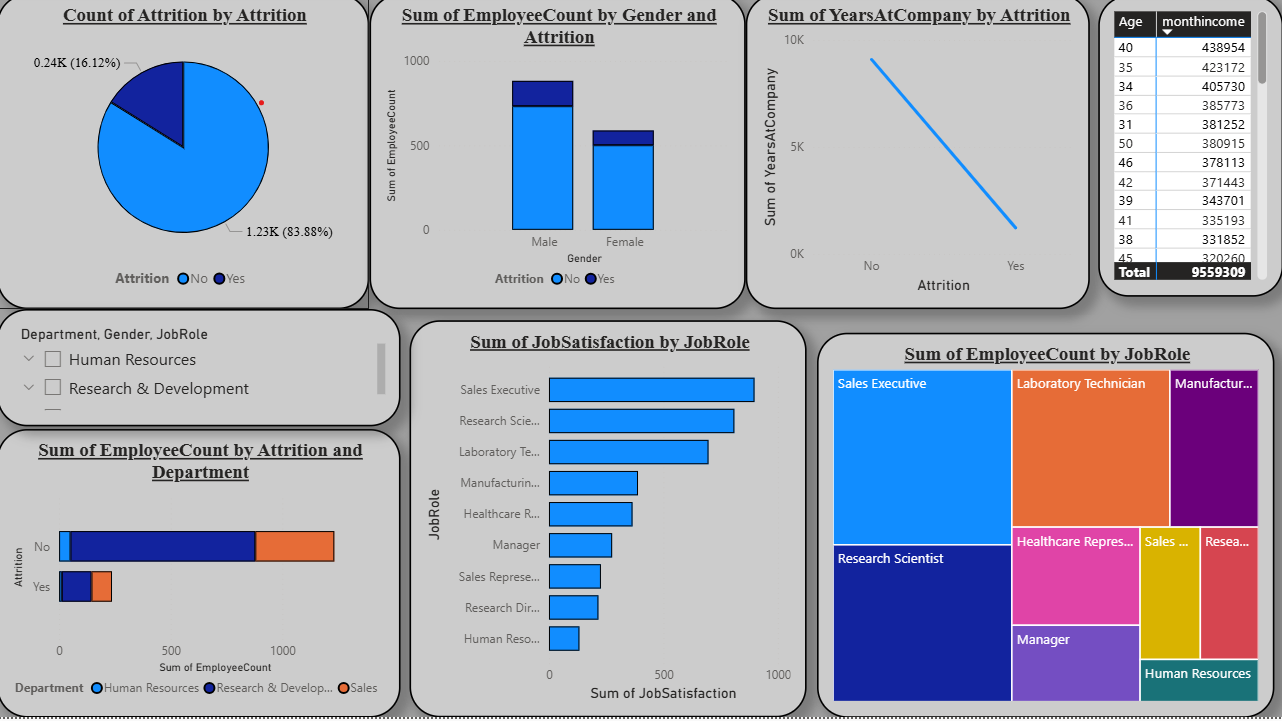

The page's visual inventory and layout, read from the dashboard file:
{"tool":"powerbi","page":{"name":"HR Attrition","canvas":[1280,720],"ordinal":0},"visuals":[{"type":"pieChart","fields":{"Y":["CountNonNull(HR emoloyee attribution.Attrition)"],"Category":["HR emoloyee attribution.Attrition"]},"box":[0,0,370.7,313.5],"z":0},{"type":"barChart","fields":{"Category":["HR emoloyee attribution.Attrition"],"Series":["HR emoloyee attribution.Department"],"Y":["Sum(HR emoloyee attribution.EmployeeCount)"]},"box":[0,432.9,401.8,287.4],"z":1000},{"type":"columnChart","fields":{"Category":["HR emoloyee attribution.Gender"],"Series":["HR emoloyee attribution.Attrition"],"Y":["Sum(HR emoloyee attribution.EmployeeCount)"]},"box":[370.7,0,374.4,313.5],"z":2000},{"type":"lineChart","fields":{"Category":["HR emoloyee attribution.Attrition"],"Y":["Sum(HR emoloyee attribution.YearsAtCompany)"]},"box":[745.1,0,342.1,313.5],"z":3000},{"type":"clusteredBarChart","fields":{"Y":["Sum(HR emoloyee attribution.JobSatisfaction)"],"Category":["HR emoloyee attribution.JobRole"]},"box":[410.5,324.7,395.6,395.6],"z":4000},{"type":"pivotTable","fields":{"Rows":["HR emoloyee attribution.Age"],"Values":["Sum(HR emoloyee attribution.MonthlyIncome)"]},"box":[1095.9,1.2,184.1,299.8],"z":5000},{"type":"slicer","fields":{"Values":["HR emoloyee attribution.Department","HR emoloyee attribution.Gender","HR emoloyee attribution.JobRole"]},"box":[0,313.5,401.8,116.9],"z":6000},{"type":"treemap","fields":{"Group":["HR emoloyee attribution.JobRole"],"Values":["Sum(HR emoloyee attribution.EmployeeCount)"]},"box":[816,337.1,455.3,383.1],"z":7000}]}

Visuals, with their boxes in screenshot pixels (x1, y1, x2, y2), scaled from the page's 1280x720 canvas onto the 1282x721 screenshot:
pieChart - CountNonNull(HR emoloyee attribution.Attrition) x HR emoloyee attribution.Attrition: 0/0/371/314
barChart - HR emoloyee attribution.Attrition x HR emoloyee attribution.Department: 0/434/402/720
columnChart - HR emoloyee attribution.Gender x HR emoloyee attribution.Attrition: 371/0/746/314
lineChart - HR emoloyee attribution.Attrition x Sum(HR emoloyee attribution.YearsAtCompany): 746/0/1089/314
clusteredBarChart - Sum(HR emoloyee attribution.JobSatisfaction) x HR emoloyee attribution.JobRole: 411/325/807/720
pivotTable - HR emoloyee attribution.Age x Sum(HR emoloyee attribution.MonthlyIncome): 1098/1/1281/301
slicer - HR emoloyee attribution.Department x HR emoloyee attribution.Gender: 0/314/402/431
treemap - HR emoloyee attribution.JobRole x Sum(HR emoloyee attribution.EmployeeCount): 817/338/1273/720
